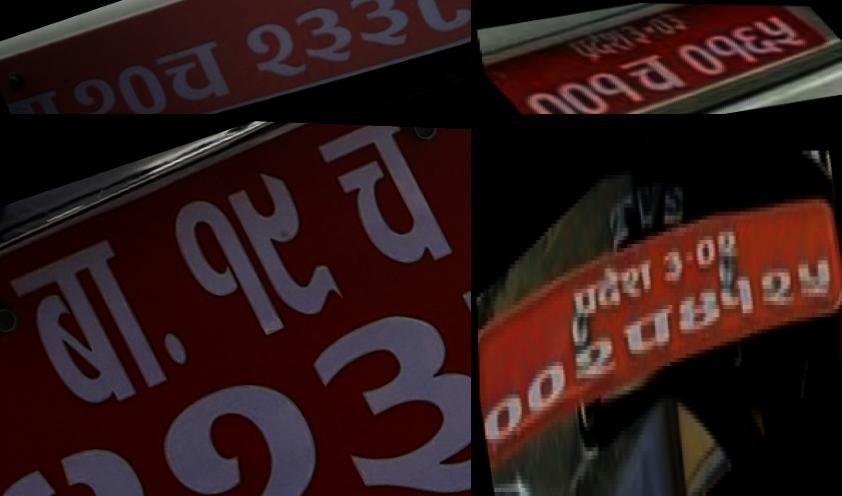0: (518, 321, 571, 438), (479, 362, 526, 467), (104, 47, 174, 114), (545, 77, 614, 114), (666, 39, 733, 77), (510, 87, 581, 114), (693, 218, 715, 272), (643, 15, 679, 35)
1: (152, 184, 284, 359), (716, 238, 756, 338), (574, 67, 650, 106), (694, 28, 760, 66)
2: (134, 353, 377, 496), (229, 4, 313, 91), (566, 307, 621, 420), (756, 227, 799, 328), (58, 59, 132, 114), (716, 210, 738, 264)
3: (291, 288, 471, 496), (282, 0, 364, 74), (335, 0, 424, 59), (661, 231, 682, 286), (613, 21, 656, 45), (655, 7, 691, 30)
4: (0, 416, 211, 496), (672, 251, 724, 360)
5: (793, 212, 836, 317), (747, 11, 809, 48)
6: (724, 23, 781, 57)
8: (394, 0, 471, 42)
9: (220, 153, 373, 333)
ba: (0, 217, 204, 431), (0, 75, 82, 114)
cha: (308, 119, 471, 292), (145, 27, 241, 114), (607, 50, 696, 95)
pa: (618, 262, 678, 389)
